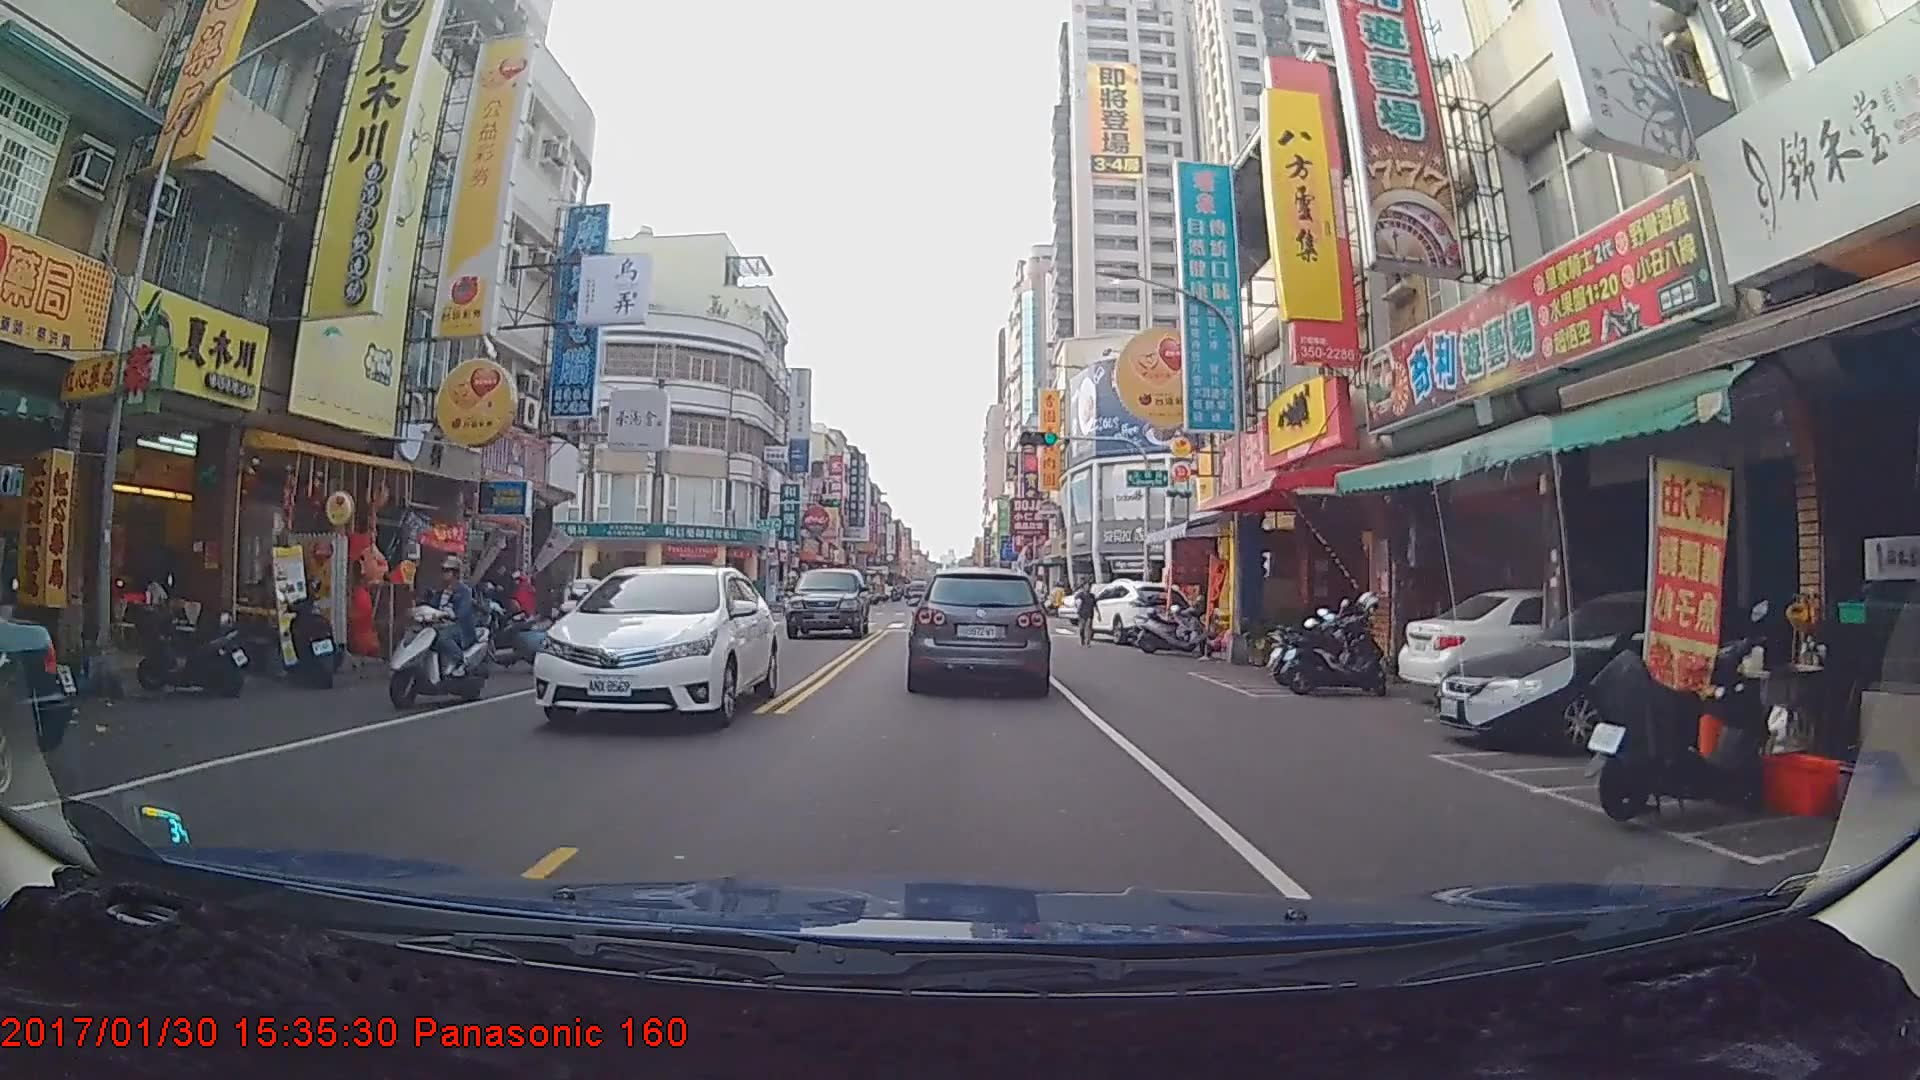pedestrian: (1076, 581, 1098, 649)
rider: (380, 559, 501, 716)
vehicle: (1436, 586, 1831, 758), (526, 564, 775, 734), (909, 565, 1048, 692), (1078, 576, 1196, 642), (785, 567, 870, 641), (905, 578, 930, 605)
